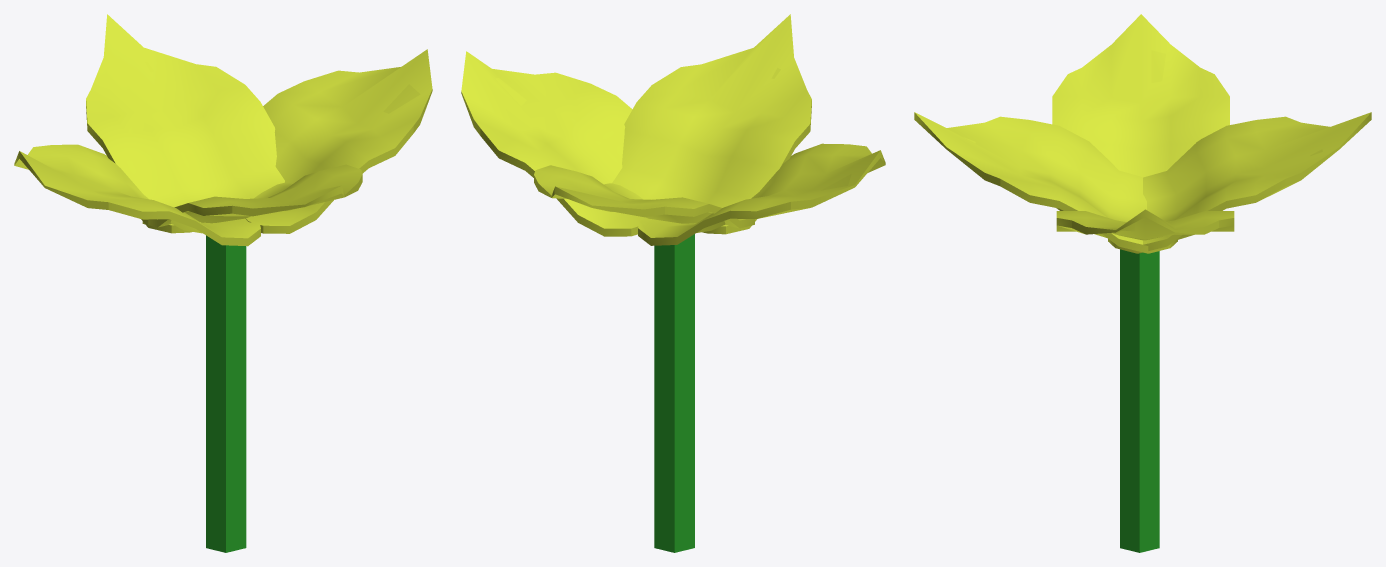
File: Flower.fbx
3 renders of one model, left to right at view 1: azimuth 30°, elevation 25°; view 2: azimuth 150°, elevation 25°; view 3: azimuth 270°, elevation 25°, orthographic. The views are drawn at different scales.
Visible parts, largest first — view 1: FLeur, Tige; view 2: FLeur, Tige; view 3: FLeur, Tige.
Boxes of the visible parts, left/top/right/bottom form: FLeur: left=14, top=14, right=432, bottom=246; Tige: left=206, top=235, right=246, bottom=552; FLeur: left=461, top=14, right=885, bottom=245; Tige: left=654, top=234, right=694, bottom=552; FLeur: left=914, top=14, right=1371, bottom=253; Tige: left=1120, top=249, right=1159, bottom=552.
Size of the model in its own units: 2.6 by 2.68 by 2.57.
